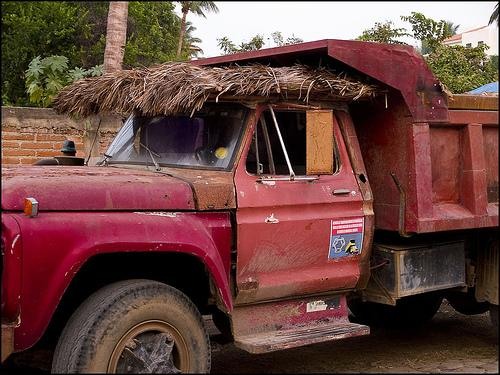truck: (0, 37, 500, 375)
